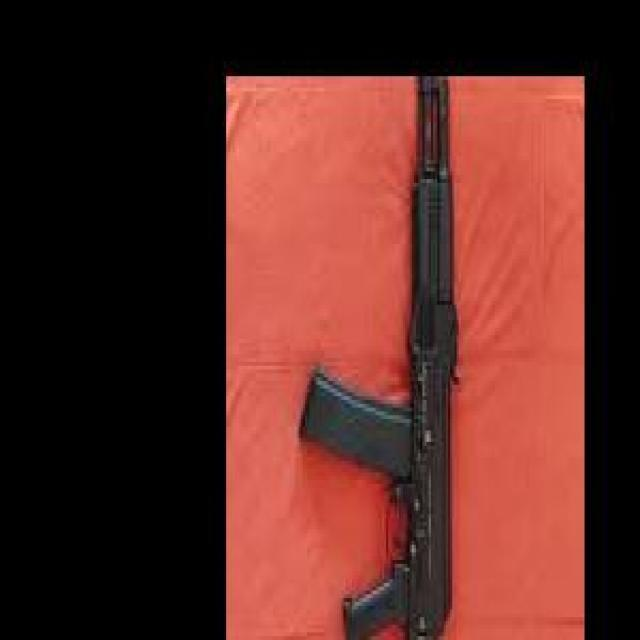weapon: (297, 78, 463, 640)
